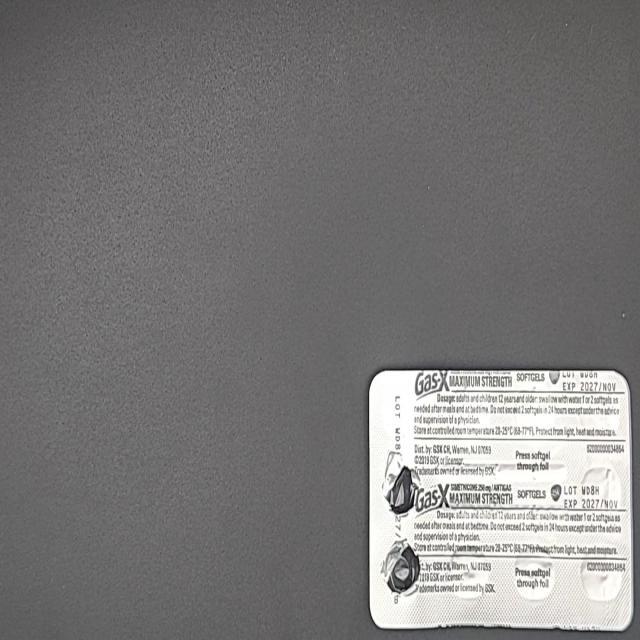defect: (381, 449, 423, 522), (378, 535, 424, 599)
